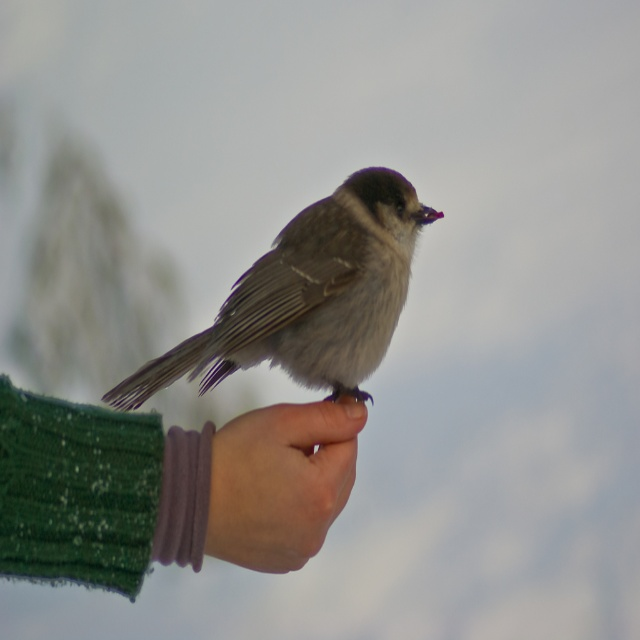Sparrow: (102, 168, 438, 417)
